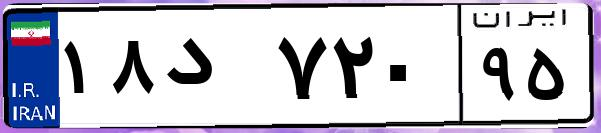0: (385, 28, 445, 110)
1: (57, 26, 110, 100)
2: (330, 28, 385, 110)
5: (525, 38, 570, 115)
7: (270, 28, 330, 110)
8: (110, 28, 158, 98)
9: (475, 38, 525, 113)
د: (158, 20, 270, 120)
